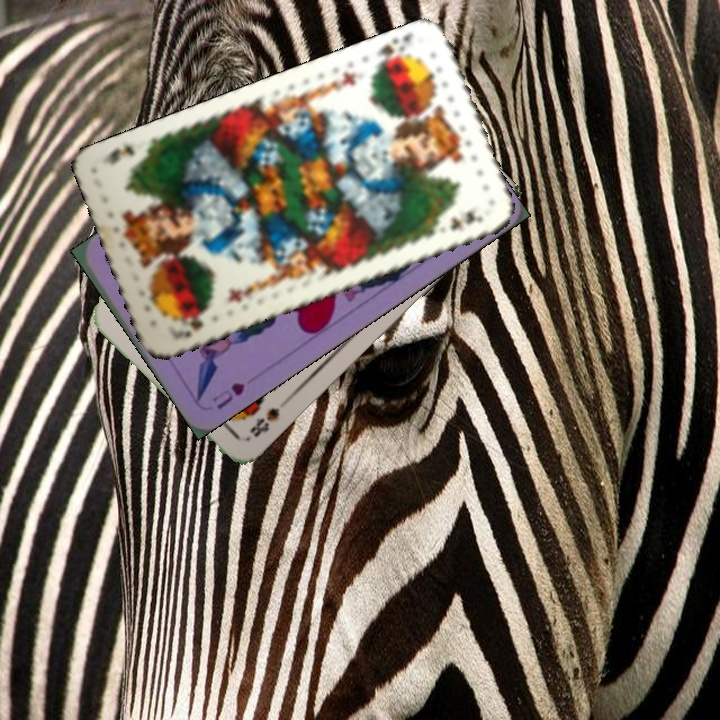HU: (207, 378, 248, 413)
S8: (245, 403, 283, 440)
SK: (372, 30, 416, 72), (174, 306, 212, 343)
